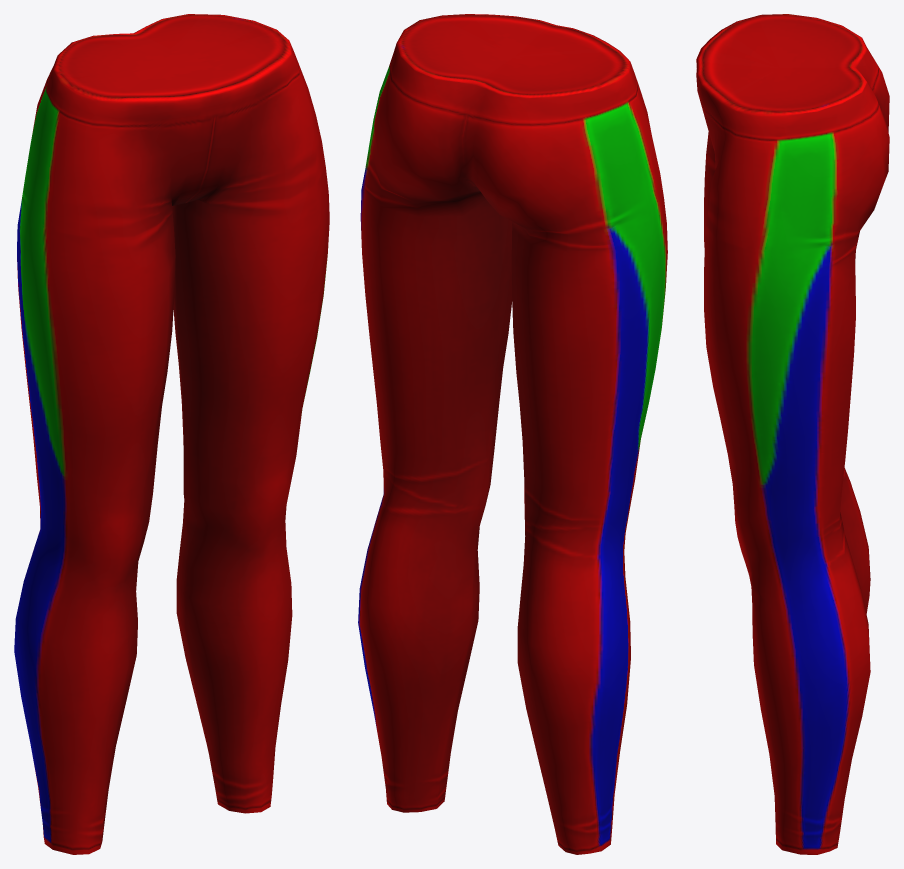
The model's file is Bottom_YogaPants.obj.
The picture shows the model from 3 angles, left to right: view 1: azimuth 30°, elevation 25°; view 2: azimuth 150°, elevation 25°; view 3: azimuth 270°, elevation 25°; orthographic projection. The views are drawn at different scales.
Parts seen in each view (by area): view 1: Bottom_YogaPants_0; view 2: Bottom_YogaPants_0; view 3: Bottom_YogaPants_0.
Boxes of the visible parts, box(x1,y1,x2,y2) form: Bottom_YogaPants_0: box(14, 14, 329, 854); Bottom_YogaPants_0: box(358, 14, 667, 854); Bottom_YogaPants_0: box(696, 14, 889, 854).
Bounding box in the file's own units: 0.3713 × 0.945 × 0.2234.
Materials: 1 (1 with a texture image).
